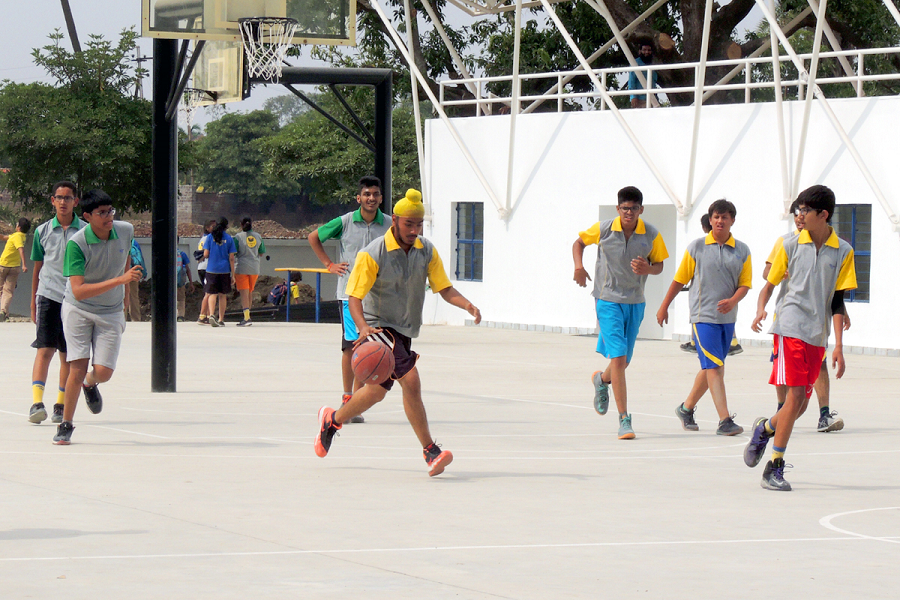ball: (352, 343, 396, 385)
basket: (236, 13, 300, 80)
player: (321, 189, 459, 475), (743, 185, 858, 490), (51, 190, 154, 446), (653, 203, 755, 433), (578, 188, 664, 436), (26, 182, 91, 424), (311, 179, 381, 373)
